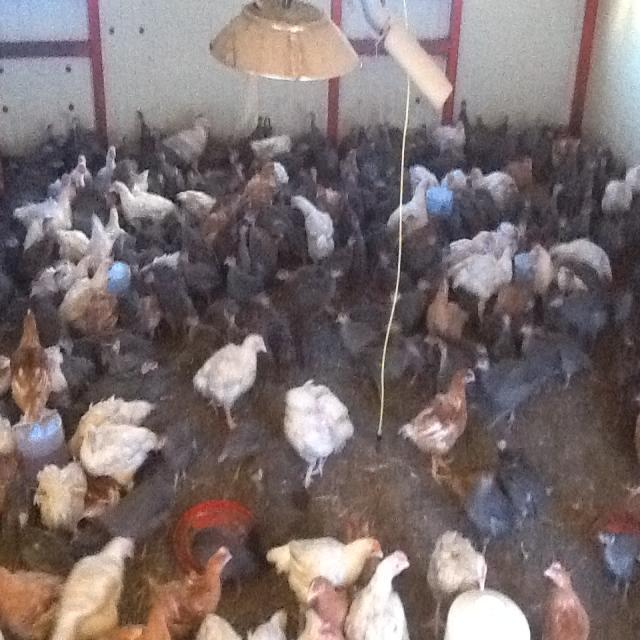poussin: (266, 522, 379, 613), (55, 532, 137, 640), (407, 355, 482, 462), (418, 526, 490, 632), (199, 326, 267, 436), (288, 372, 347, 492), (156, 543, 234, 632), (0, 553, 73, 640), (70, 380, 158, 450), (349, 545, 412, 640), (474, 346, 540, 426), (493, 436, 550, 528), (454, 241, 517, 320), (60, 260, 113, 352), (81, 420, 157, 484), (146, 255, 194, 356), (516, 314, 585, 381), (537, 561, 594, 640), (15, 301, 51, 426), (51, 204, 126, 262), (156, 113, 223, 177), (444, 212, 520, 268), (548, 290, 624, 343), (210, 415, 272, 479), (593, 520, 640, 604), (290, 188, 340, 264), (115, 180, 176, 242), (38, 459, 92, 527), (471, 464, 513, 550), (554, 230, 618, 286), (256, 283, 295, 373), (362, 334, 420, 392), (431, 276, 470, 362), (22, 183, 85, 236), (114, 596, 188, 640), (299, 263, 353, 319), (72, 473, 126, 528), (386, 178, 434, 238), (33, 260, 100, 302), (156, 433, 204, 491), (221, 253, 268, 310), (302, 572, 353, 622), (97, 332, 145, 384), (200, 150, 252, 198), (540, 127, 579, 189), (604, 330, 640, 397), (170, 180, 220, 228), (332, 308, 372, 364), (231, 603, 291, 640), (314, 177, 360, 225), (364, 236, 408, 286), (468, 160, 512, 207), (128, 291, 163, 350), (302, 106, 342, 157), (404, 268, 434, 335), (126, 350, 176, 390), (189, 603, 243, 640), (527, 236, 556, 300), (0, 414, 19, 511), (540, 178, 564, 252), (92, 287, 120, 350), (432, 118, 478, 156), (298, 608, 352, 640), (247, 224, 282, 273), (80, 210, 110, 266), (242, 163, 276, 212), (451, 95, 482, 148), (252, 129, 306, 159), (192, 249, 218, 309), (124, 241, 162, 280), (64, 154, 98, 197), (504, 194, 536, 238), (408, 230, 443, 270), (21, 211, 50, 259), (202, 210, 235, 252), (237, 217, 258, 281), (604, 175, 633, 221), (44, 345, 68, 400), (380, 287, 408, 334), (572, 189, 600, 236), (289, 163, 329, 194), (378, 122, 407, 164), (359, 177, 382, 229), (508, 150, 536, 192), (270, 256, 302, 292), (489, 113, 519, 149), (1, 223, 23, 271), (240, 115, 272, 146), (344, 228, 366, 272), (340, 188, 362, 232), (516, 118, 550, 146), (0, 268, 17, 323), (148, 248, 180, 277), (359, 136, 380, 179), (42, 120, 64, 161), (412, 158, 437, 194), (580, 156, 604, 192), (340, 140, 357, 188), (128, 169, 154, 198), (104, 144, 119, 194), (406, 122, 430, 153), (0, 344, 13, 398), (439, 168, 466, 194), (344, 121, 367, 151), (114, 132, 132, 170), (133, 106, 151, 142), (623, 159, 640, 191), (599, 145, 617, 173), (69, 112, 80, 152), (142, 122, 154, 154)
